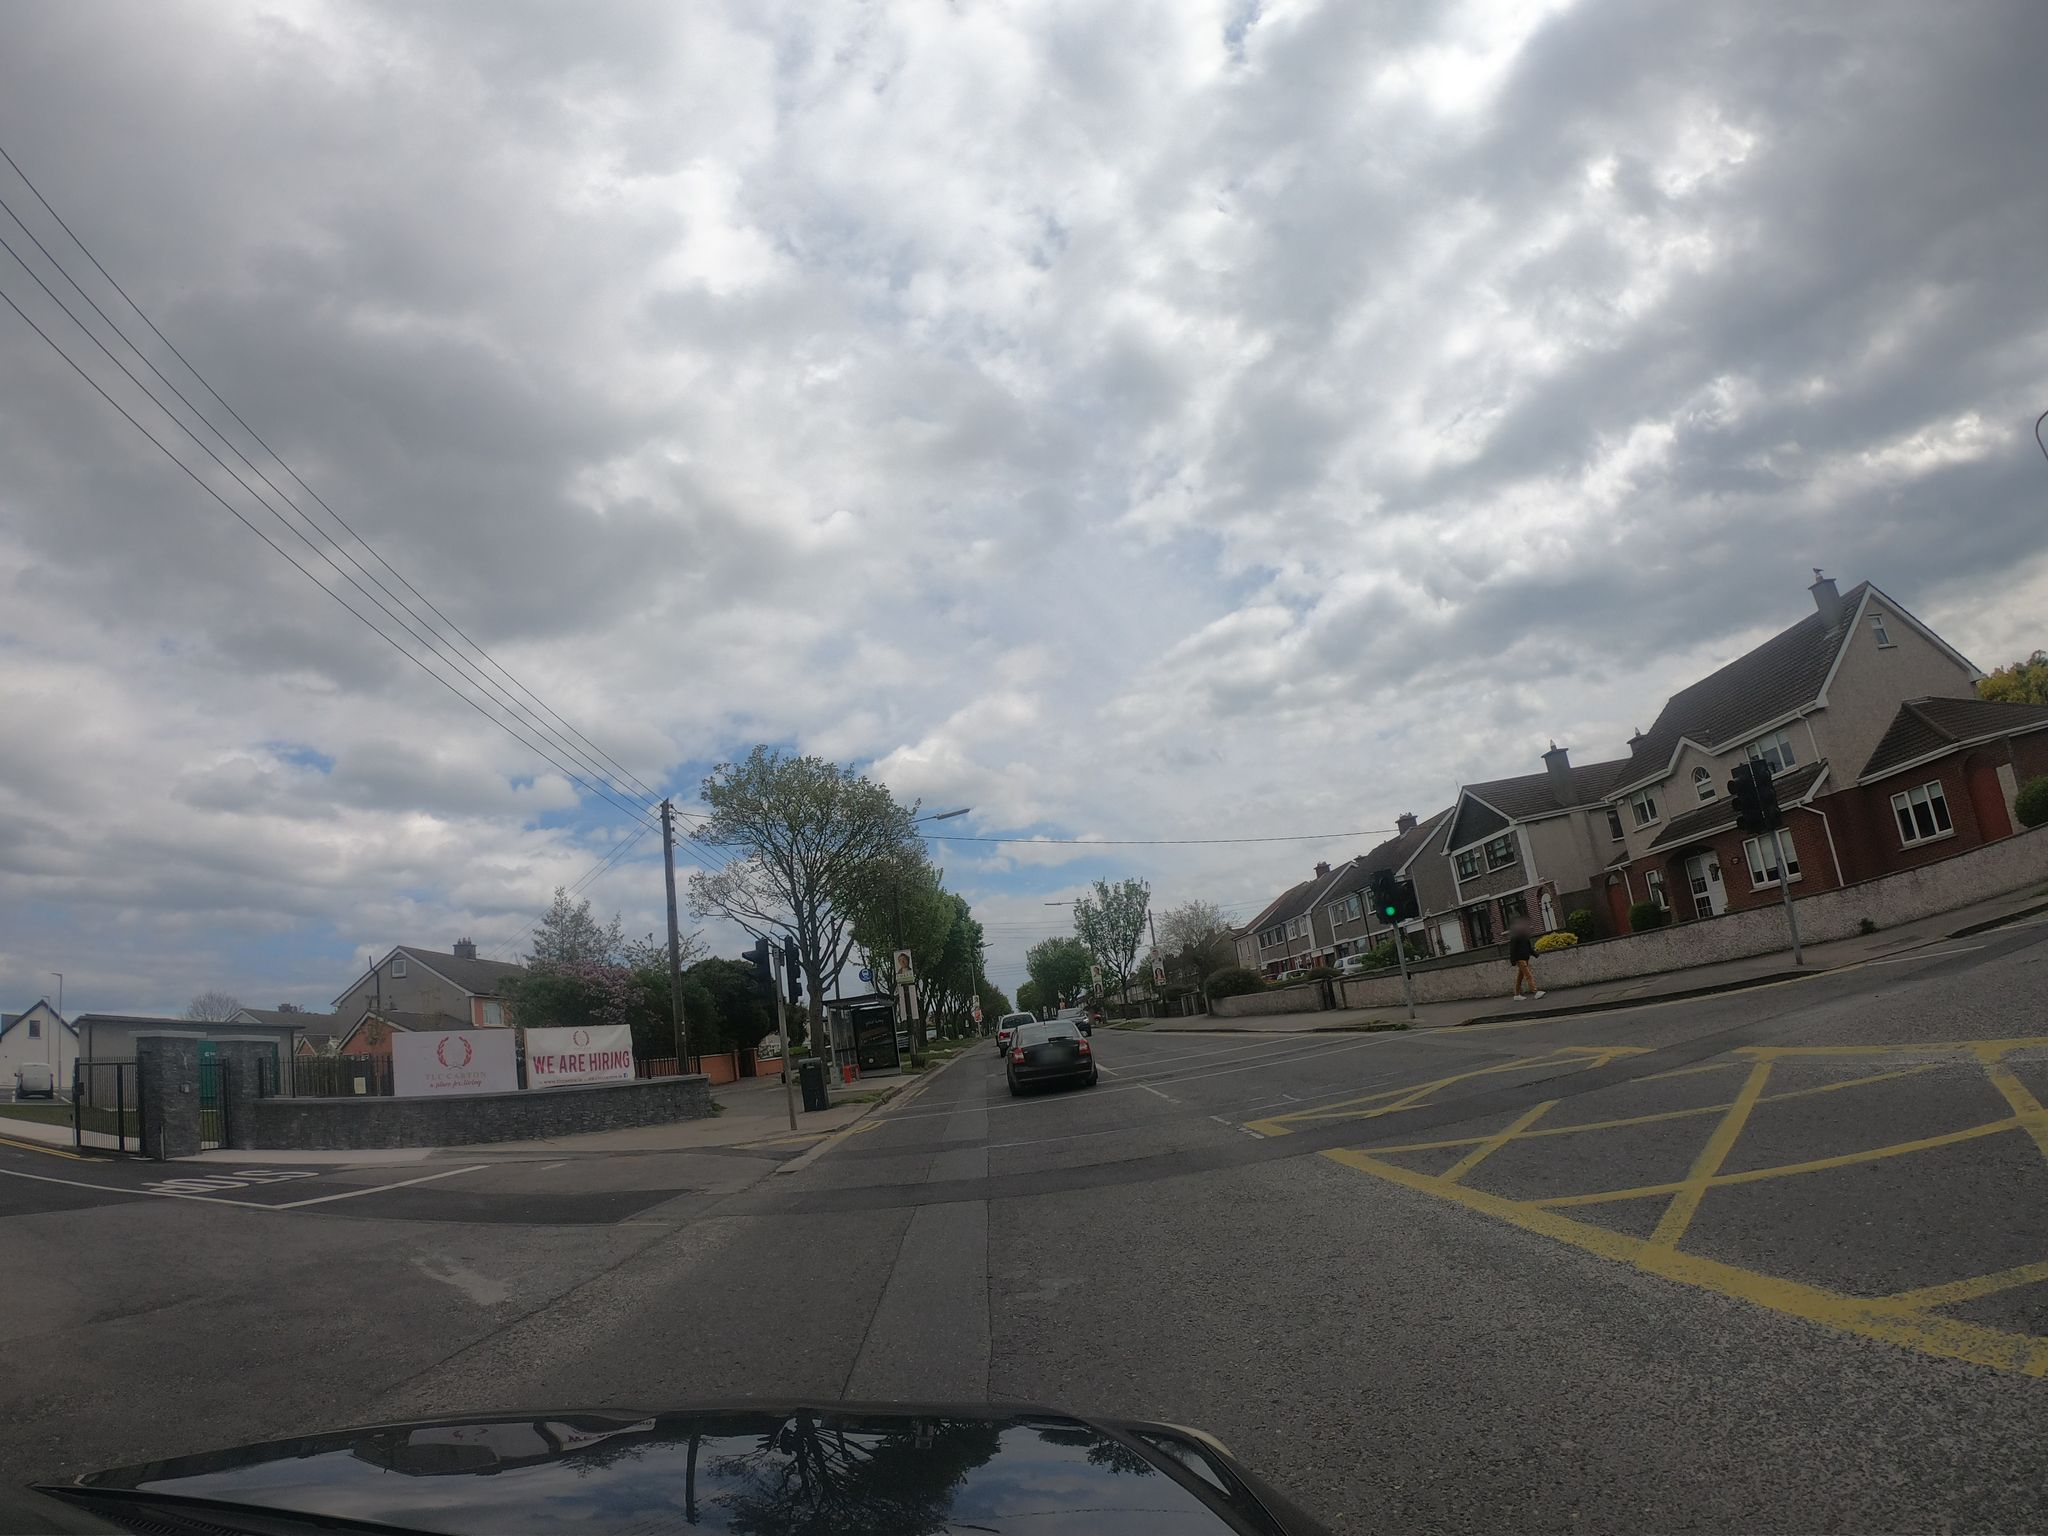vinyl banner: (518, 1000, 651, 1096)
